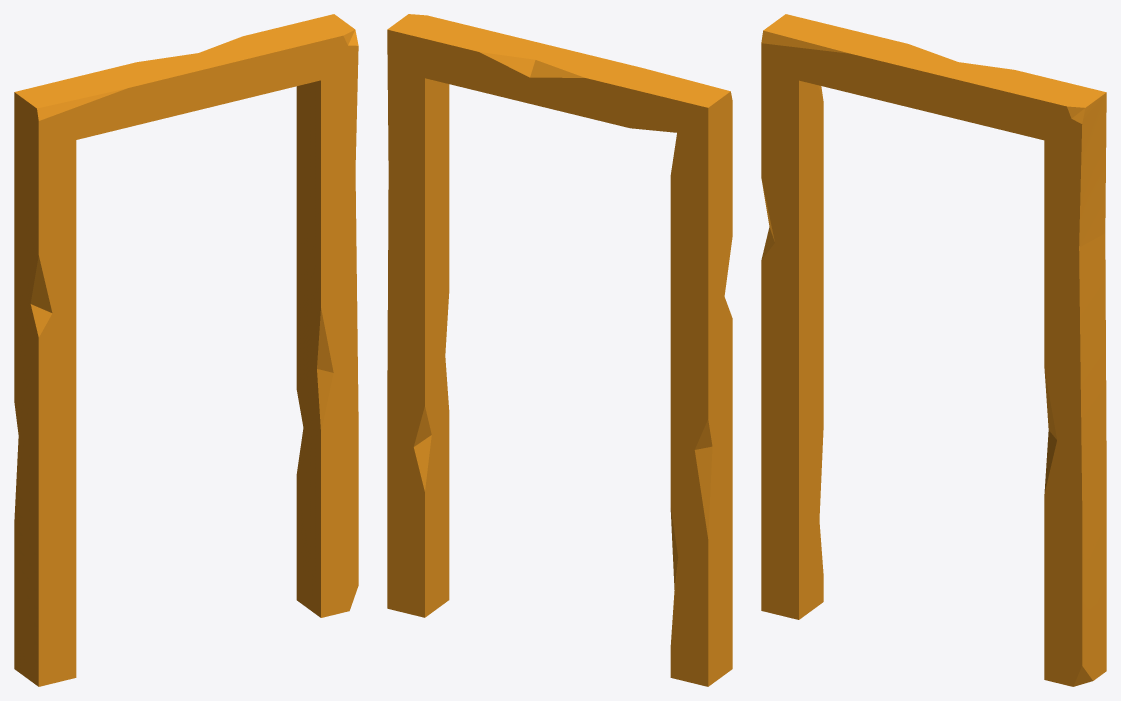
Rendered from SM_Buildings_DoorFrame_01P.fbx.
3 views of the same model, side by side, from view 1: azimuth 30°, elevation 25°; view 2: azimuth 150°, elevation 25°; view 3: azimuth 330°, elevation 25° (orthographic).
Parts seen in each view (by area): view 1: SM_Buildings_DoorFrame_01P; view 2: SM_Buildings_DoorFrame_01P; view 3: SM_Buildings_DoorFrame_01P.
Boxes of the visible parts, bbox=[...] form: SM_Buildings_DoorFrame_01P: bbox=[14, 14, 358, 686]; SM_Buildings_DoorFrame_01P: bbox=[387, 14, 732, 686]; SM_Buildings_DoorFrame_01P: bbox=[761, 14, 1106, 686].
Bounding box in the file's own units: 131 × 225 × 17.29.
